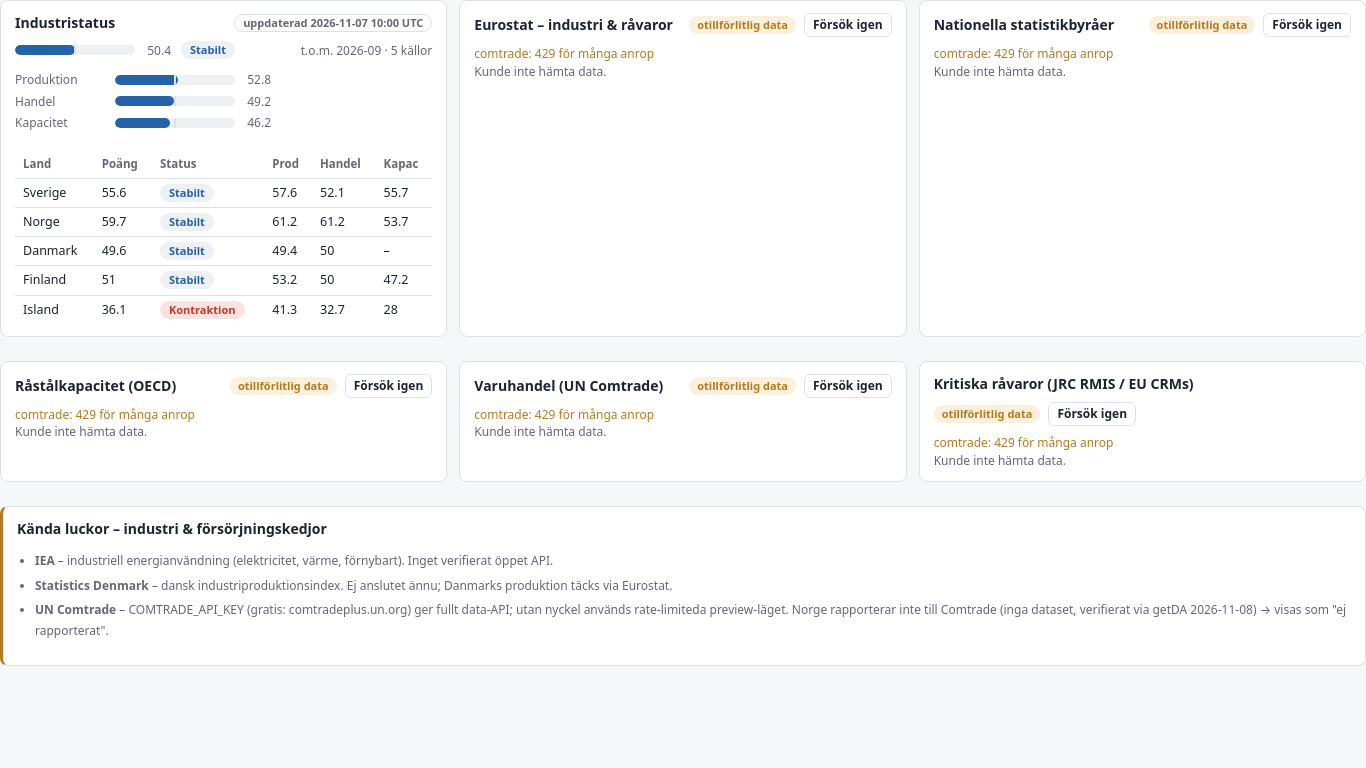
Test: IndustryView › ofoglig country → NORDIC; datafel → fel i panelerna, retry hämtar igen
This screenshot has width=1366, height=768.
Expected: the text "comtrade: 429 för många anrop" is shown 5 times, [474,45,654,62]; [934,45,1114,62]; [15,406,195,423]; [474,406,654,423]; [934,434,1114,451]
Expected: the text "Kunde inte hämta data." is shown 5 times, [474,63,606,80]; [934,63,1066,80]; [15,424,147,440]; [474,424,606,440]; [934,452,1066,469]
Click the button "Försök igen" in the row of "Eurostat – industri & råvaror": (848, 25) [804,13,892,37]
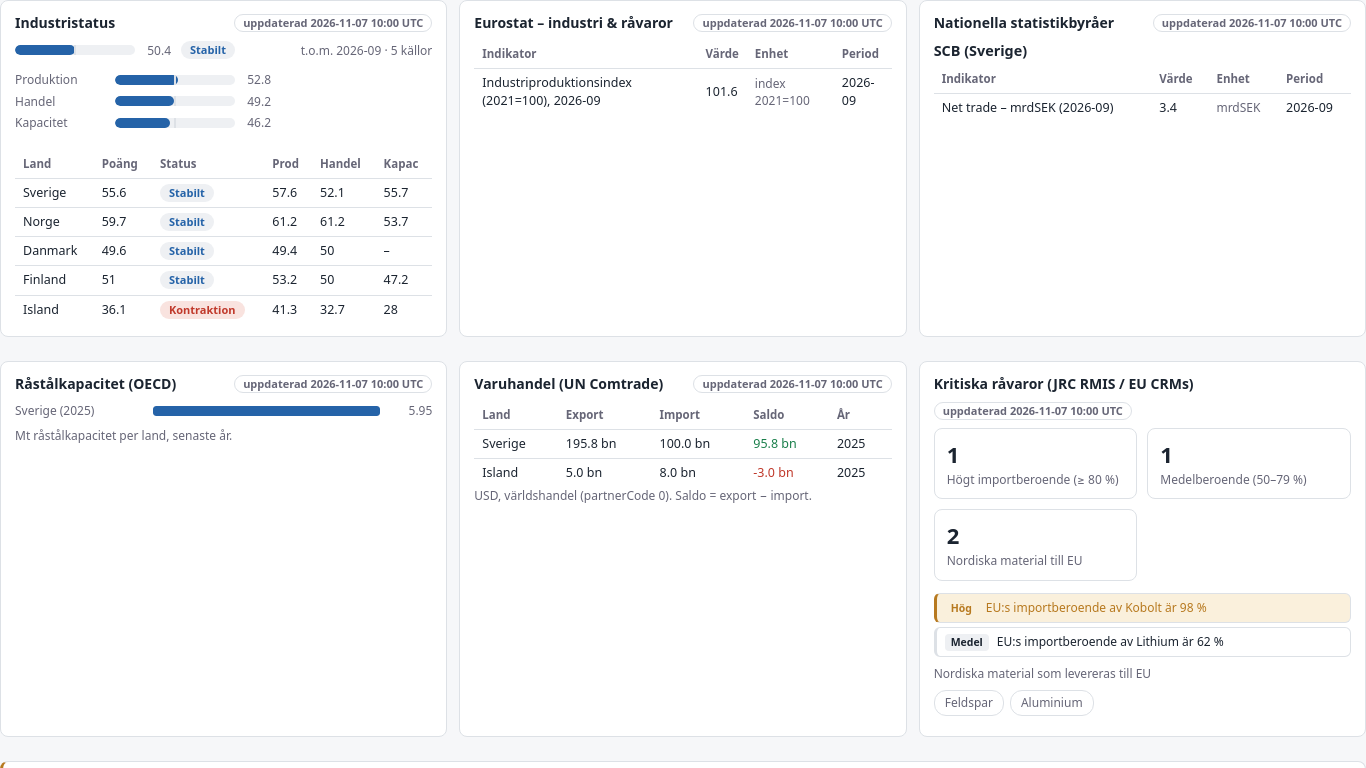
Result: the text "Industriproduktionsindex (2021=100), 2026-09" is shown at [474,68,698,115]
Result: the text "comtrade: 429 för många anrop" is gone
